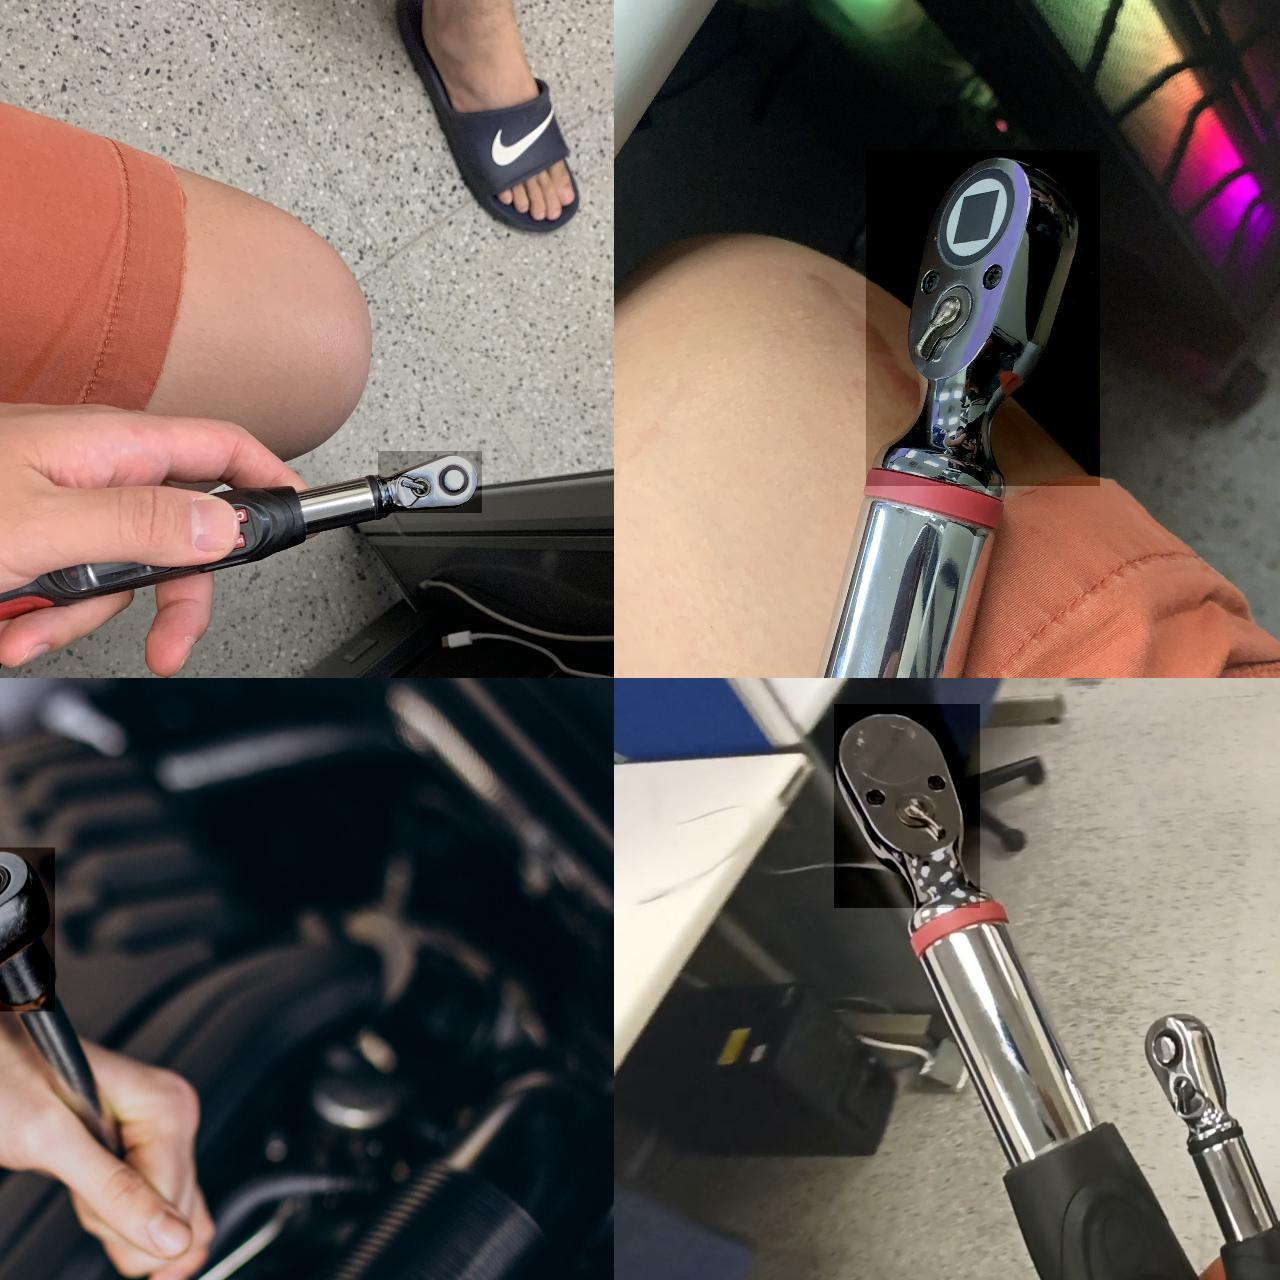Tool: (865, 149, 1099, 485), (833, 703, 979, 907), (1141, 1006, 1231, 1144), (0, 847, 54, 1012), (377, 450, 481, 512)
